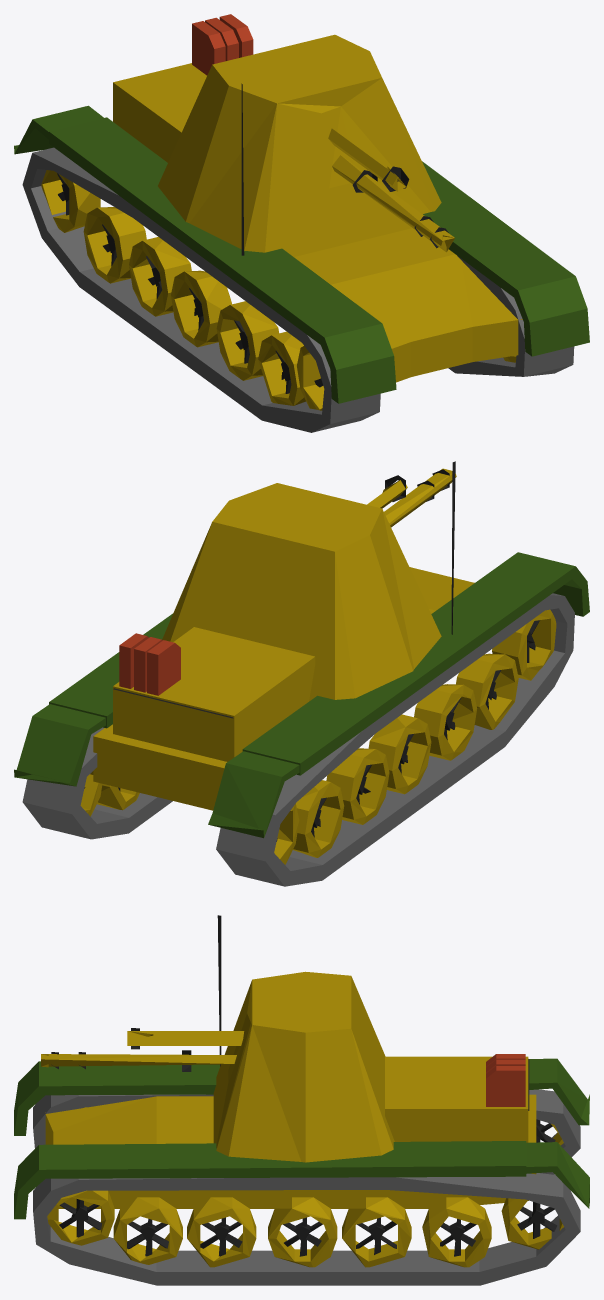
Rendered from Light_Tank.glb.
3 renders of one model, top to bottom at view 1: azimuth 30°, elevation 25°; view 2: azimuth 150°, elevation 25°; view 3: azimuth 270°, elevation 25°, orthographic. The views are drawn at different scales.
Parts seen in each view (by area): view 1: Light_Tank; view 2: Light_Tank; view 3: Light_Tank.
Boxes of the visible parts, left/top/right/bottom form: Light_Tank: left=14, top=14, right=589, bottom=432; Light_Tank: left=14, top=461, right=589, bottom=886; Light_Tank: left=14, top=915, right=589, bottom=1285.
Size of the model in its own units: 2.06 by 2.4 by 4.61.
